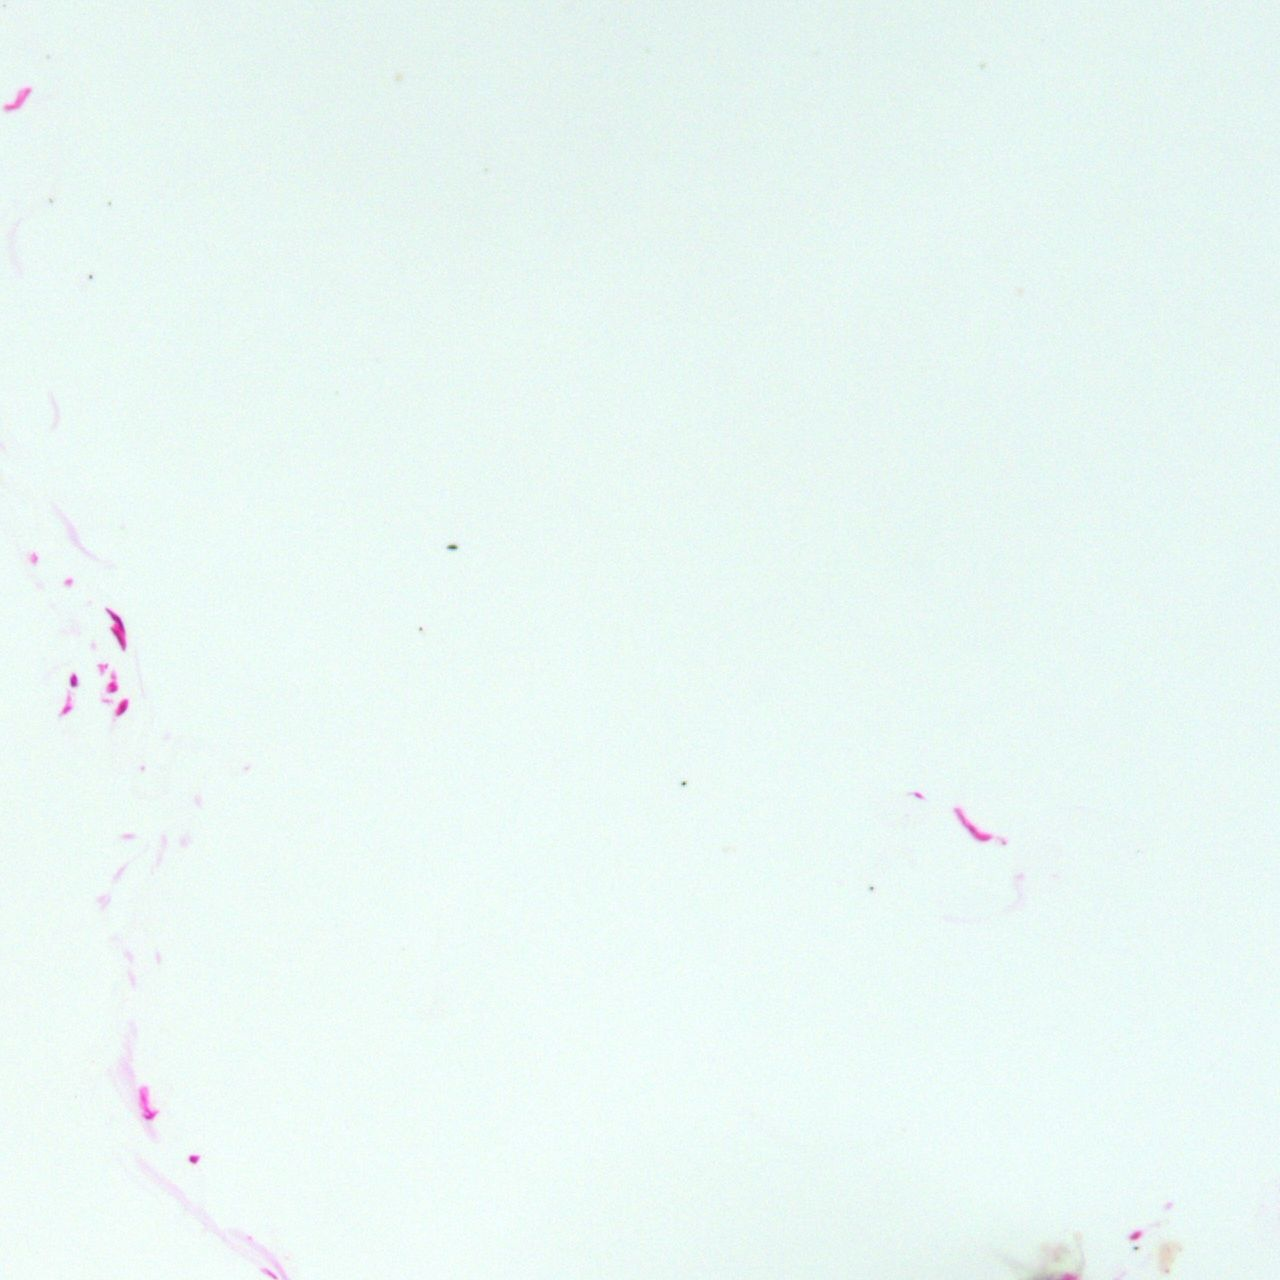dust: (445, 542, 459, 551), (48, 197, 55, 204), (417, 626, 424, 632), (869, 885, 874, 892), (87, 274, 93, 280), (680, 781, 687, 785), (108, 200, 113, 205), (1133, 1246, 1138, 1251)
nucleus-FG: (949, 805, 993, 846), (105, 605, 127, 633), (109, 625, 127, 648), (1128, 1230, 1142, 1242), (114, 708, 125, 719), (60, 704, 73, 714), (143, 1112, 156, 1119), (190, 1155, 198, 1164), (70, 680, 77, 687), (109, 687, 118, 692), (914, 794, 922, 798)
